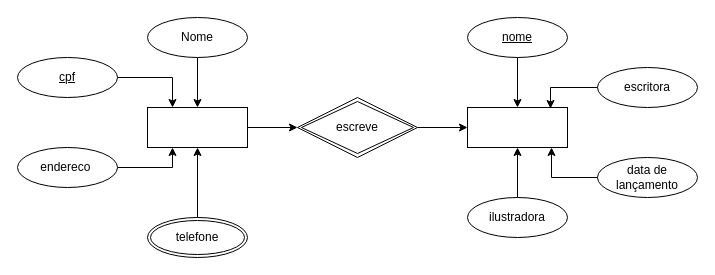
This 715x275 diagram has some shape labels left out. The shapes that lost their labels are listed below. From the top down, each one's box as (x1, y1, x2, y2) in pixels, then its label:
(146, 106, 248, 148): autor
(466, 106, 568, 148): livro
